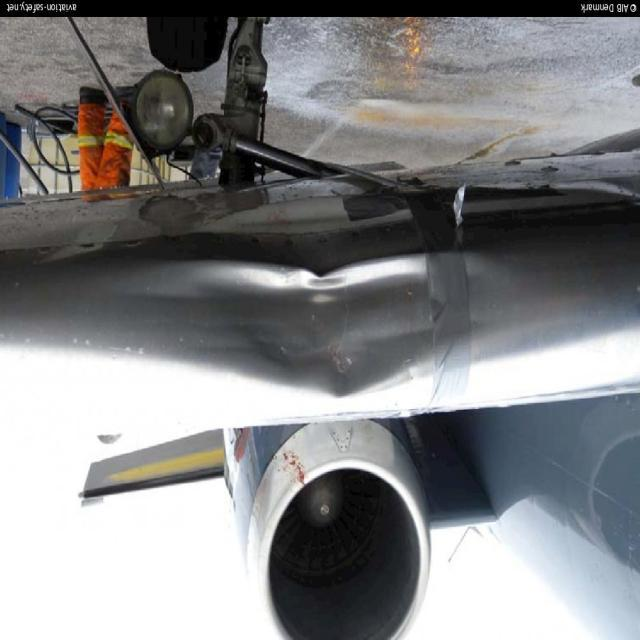dent: (105, 255, 486, 400)
